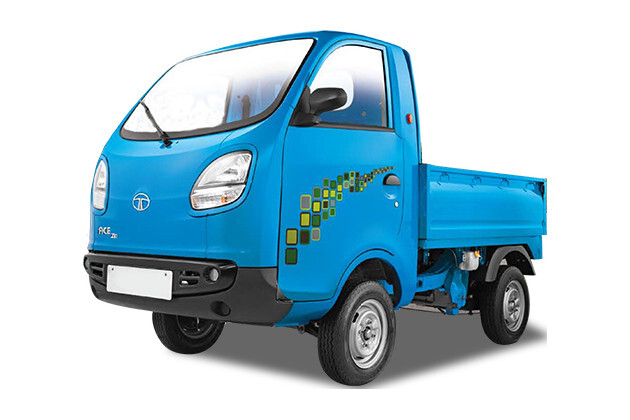Vehicle: (76, 24, 550, 381)
